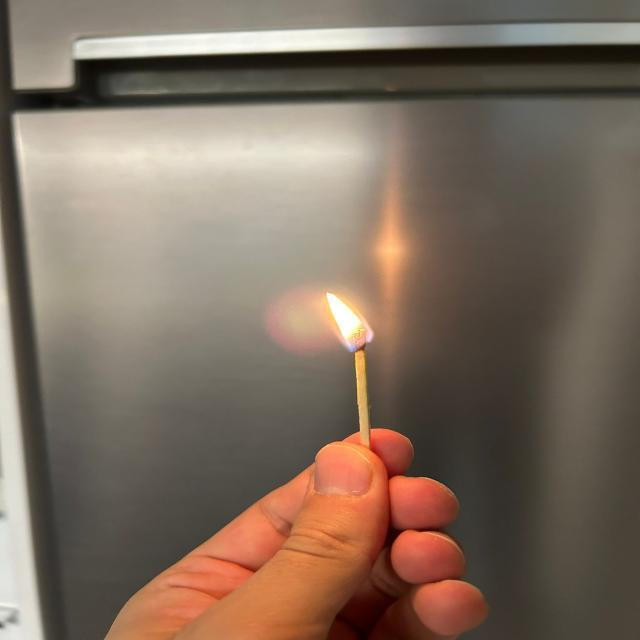fire: (317, 280, 383, 354)
